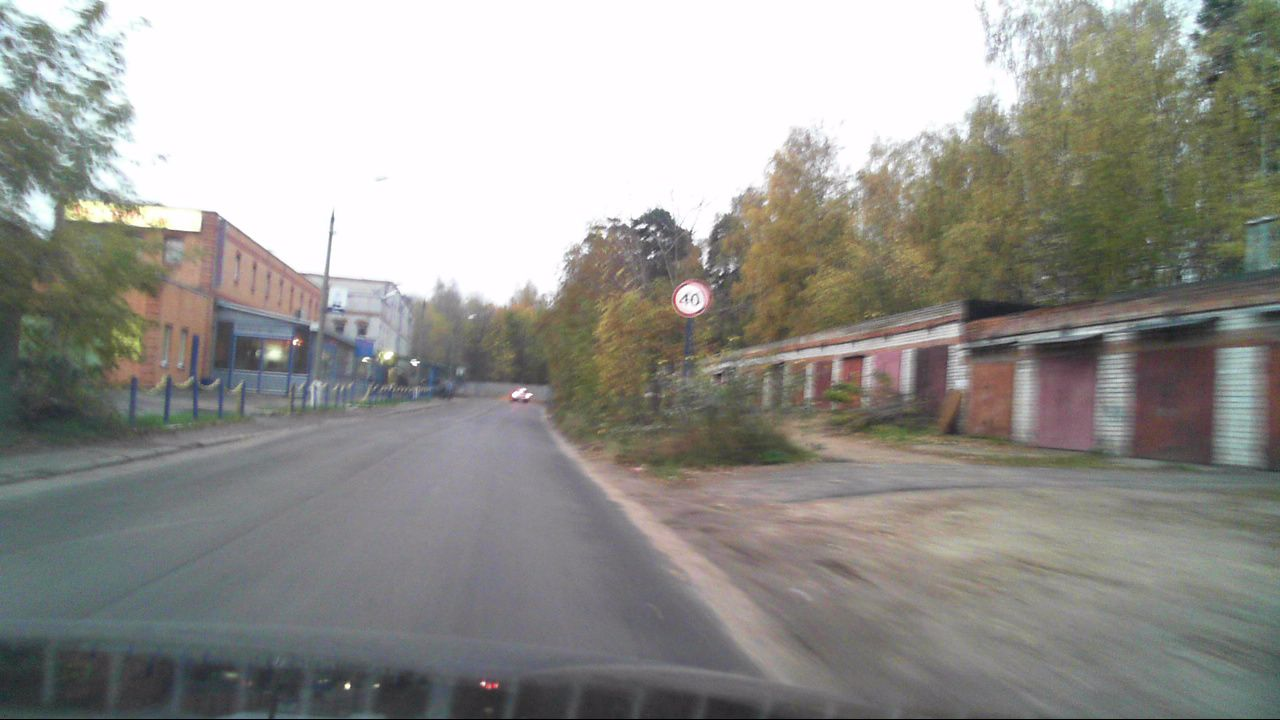speed_warning_40: (672, 278, 709, 318)
